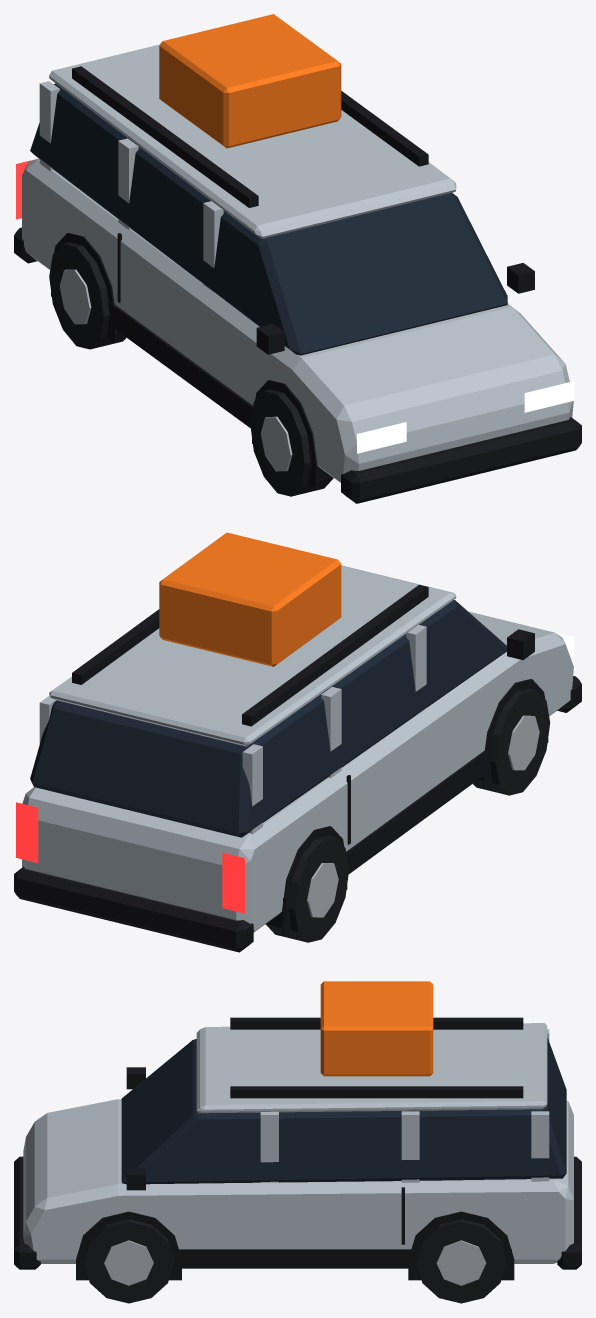
The model's file is hauler.glb.
3 views of the same model, one above another, from view 1: azimuth 30°, elevation 25°; view 2: azimuth 150°, elevation 25°; view 3: azimuth 270°, elevation 25° (orthographic). The views are drawn at different scales.
Parts seen in each view (by area): view 1: tub, glasshouse, roof, bag, bumper_f, wheel_FL, wheel_RL, rocker_-1, rail_-1, rail_1, wheel_RL_hub, wheel_FL_hub (+9 smaller); view 2: tub, glasshouse, roof, bag, bumper_r, wheel_RL, wheel_FL, rocker_-1, rail_-1, rail_1, wheel_FL_hub, wheel_RL_hub (+8 smaller); view 3: tub, glasshouse, roof, bag, rocker_1, wheel_FR, wheel_RR, rail_1, rail_-1, wheel_FR_hub, wheel_RR_hub, arch_+1.5_1 (+7 smaller).
Boxes of the visible parts, x1,y1,x2,y2 form: tub: (22,159,573,482); glasshouse: (30,83,507,355); roof: (49,44,456,238); bag: (159,14,341,148); bumper_f: (341,417,581,503); wheel_FL: (250,389,333,496); wheel_RL: (49,242,126,349); rocker_-1: (108,301,311,472); rail_-1: (72,66,258,207); rail_1: (341,91,428,166); wheel_RL_hub: (59,269,91,324); wheel_FL_hub: (260,416,292,471); tub: (22,611,573,932); glasshouse: (30,600,506,837); roof: (49,565,456,746); bag: (159,532,341,666); bumper_r: (14,866,253,952); wheel_RL: (265,835,348,942); wheel_FL: (473,688,550,795); rocker_-1: (280,747,491,920); rail_-1: (242,584,428,726); rail_1: (72,609,159,684); wheel_FL_hub: (508,715,539,770); wheel_RL_hub: (307,863,338,917); tub: (23,1099,573,1263); glasshouse: (121,1037,566,1184); roof: (196,1023,547,1113); bag: (320,981,433,1076); rocker_1: (84,1249,511,1268); wheel_FR: (84,1219,173,1303); wheel_RR: (416,1219,506,1303); rail_1: (230,1086,523,1098); rail_-1: (230,1017,523,1029); wheel_FR_hub: (104,1240,153,1285); wheel_RR_hub: (436,1240,486,1285); arch_+1.5_1: (76,1211,181,1280).
Bounding box in the file's own units: 2.26 × 2.45 × 5.04.
